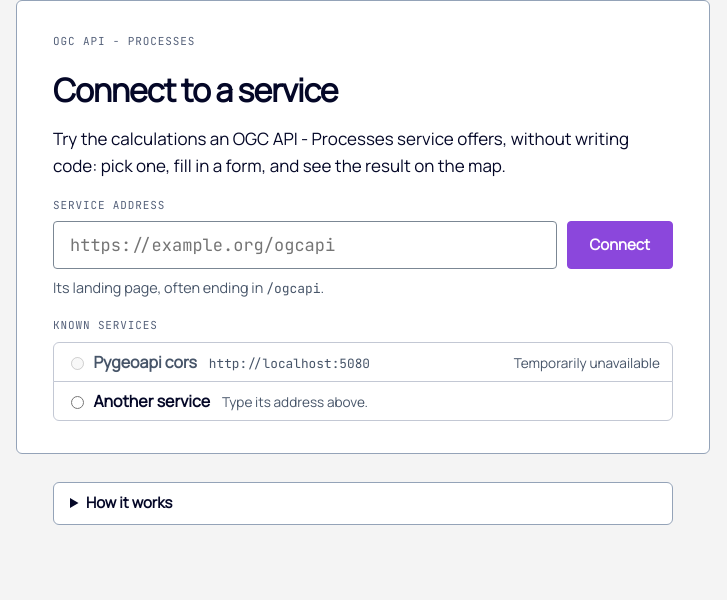
Test: a relay service while the relay is down (updated: true) › is not what Connect opens
The image size is (727, 600).
Click the button "Connect" at (620, 246), box [566,222,673,270]
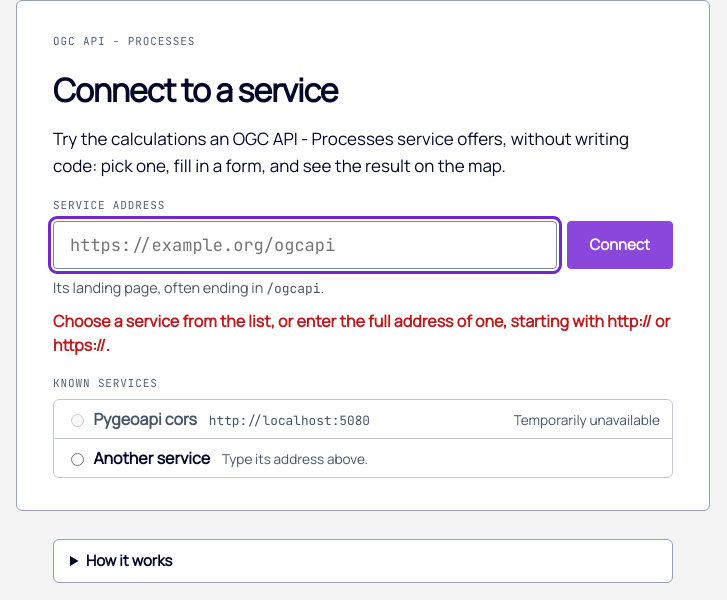
expect the message with class "field-error" is shown: met, box [53,309,673,357]
